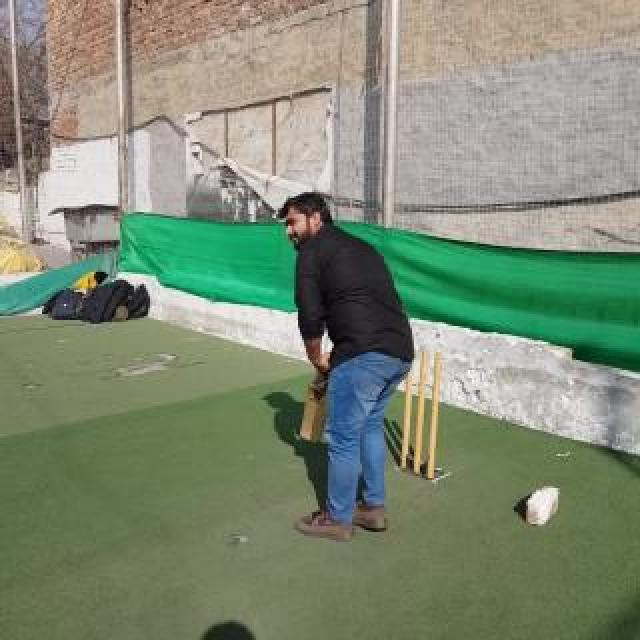bat: (300, 359, 328, 443)
